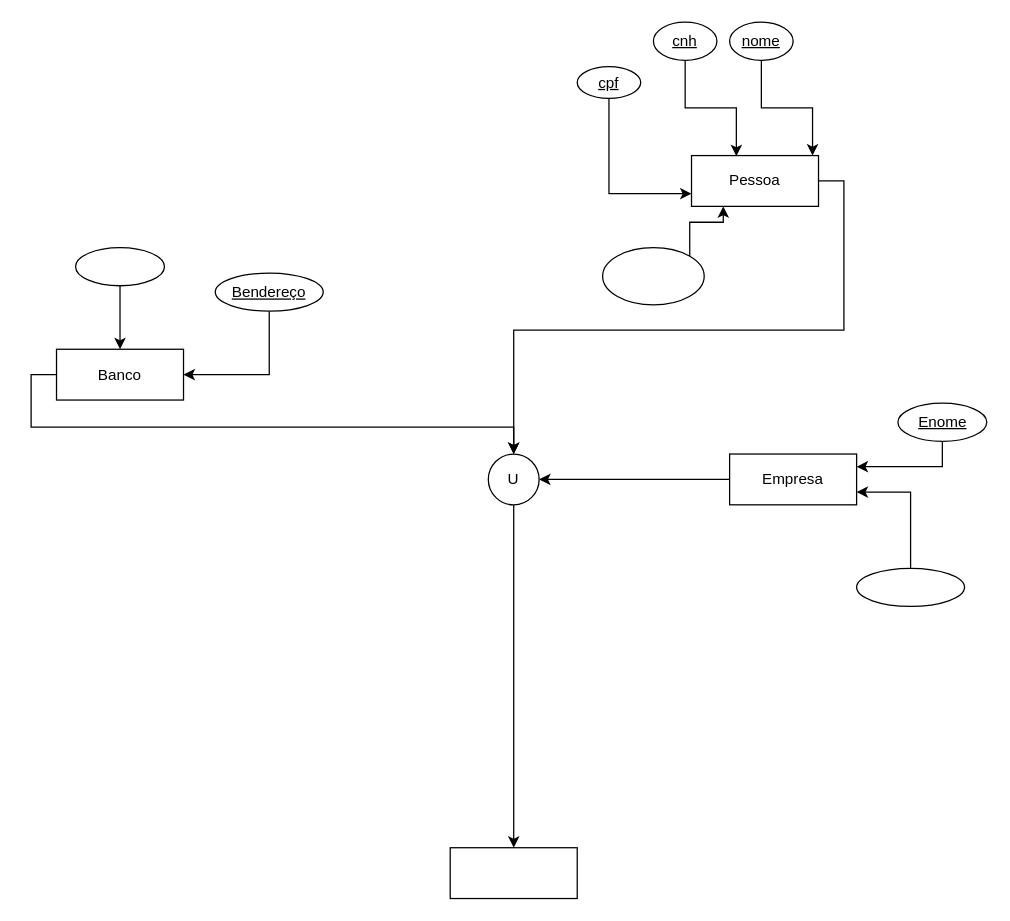
Image size: 1010x921. Some labels were removed from this diagram. Here are the shapes that lost their labels. From the top down, the box of each, then its label:
(74, 246, 164, 286): Bnome
(601, 246, 704, 305): Endereço
(855, 567, 965, 606): Eendereço
(449, 846, 577, 899): Dono
